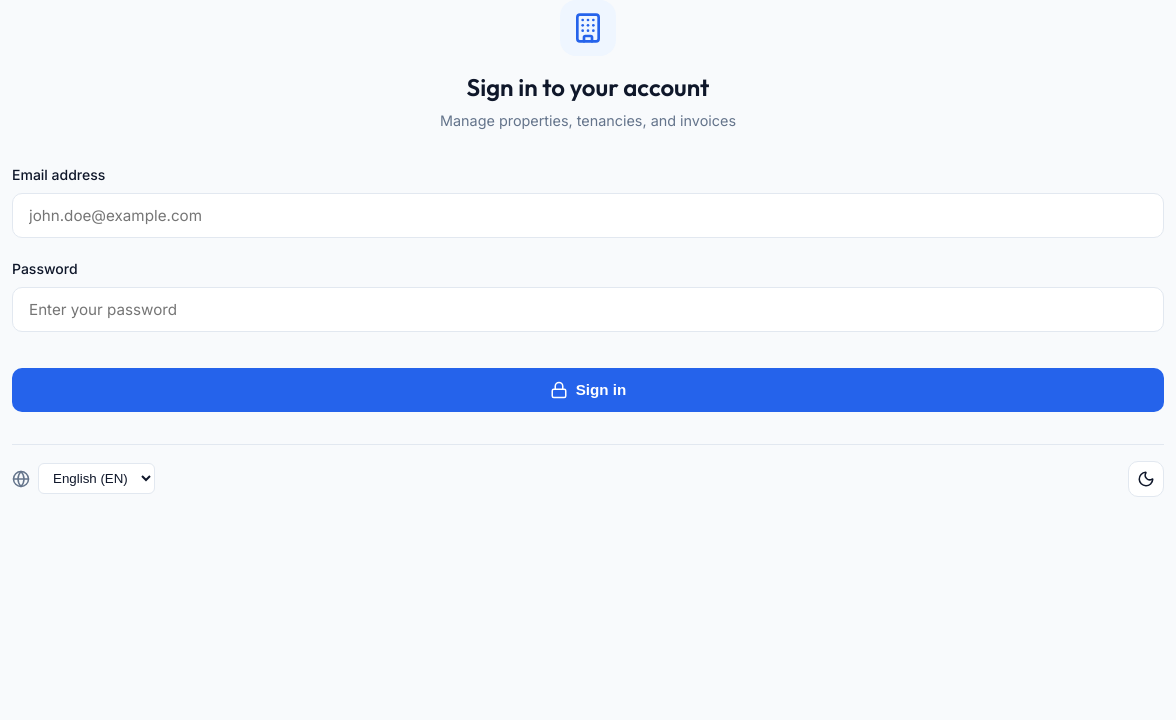
Stage 5 Frontend Auth & API Client Foundation › handles invalid login credentials and displays alert
Type "wrong@example.com" into the field labelled "Email address" at (588, 215), box [12,193,1164,238]
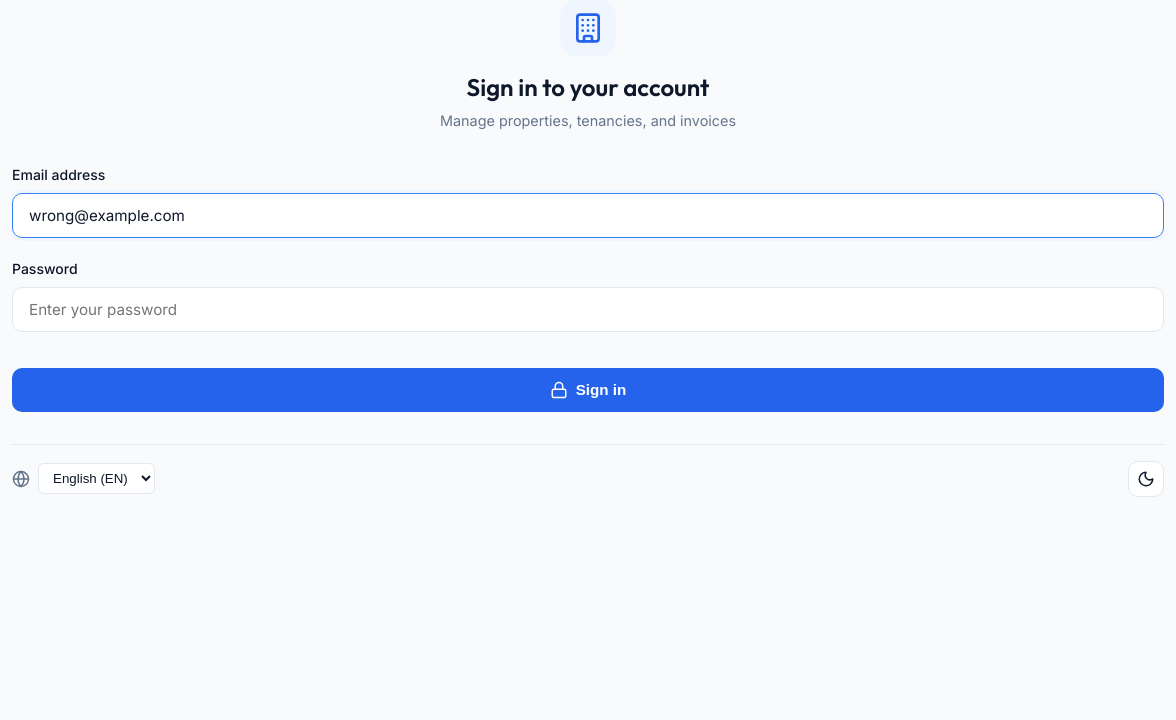
Type "WrongPassword123!" into the password field labelled "Password" at (588, 309), box [12,287,1164,332]
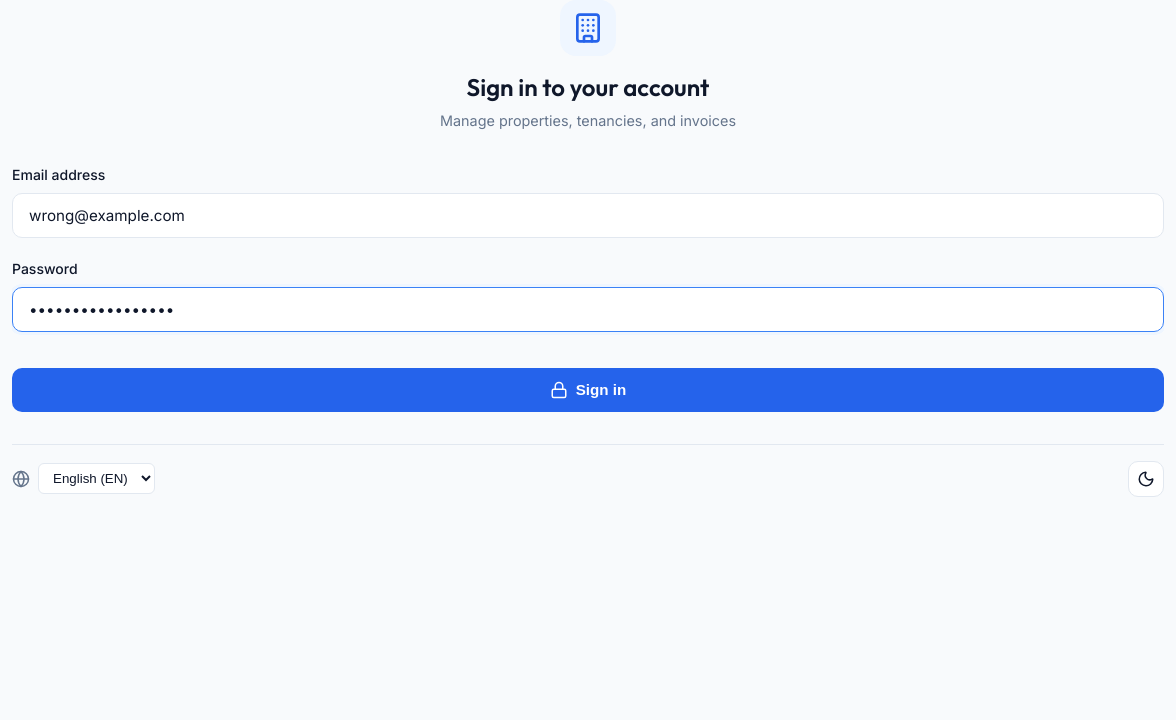
Click the button "Sign in" at (588, 390), box [12,368,1164,412]
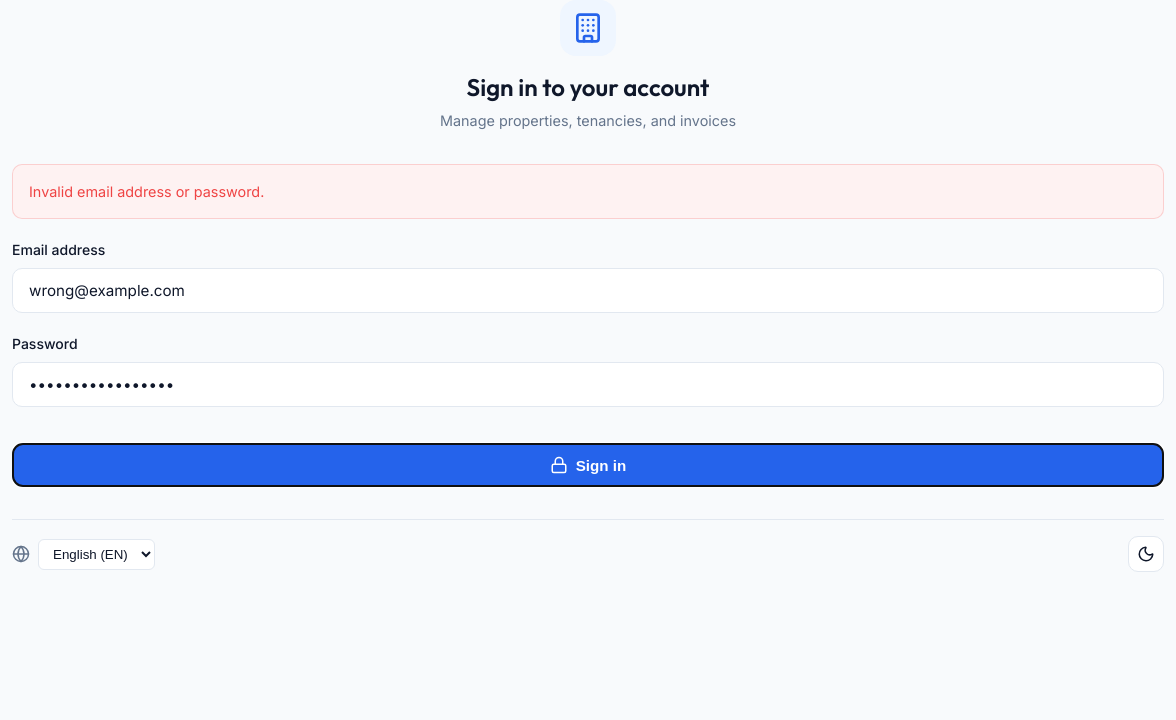
Now the message "Invalid email address or password." is shown, box [12,164,1164,219]
Now the text "Invalid email address or password." is shown, box [29,181,264,202]
